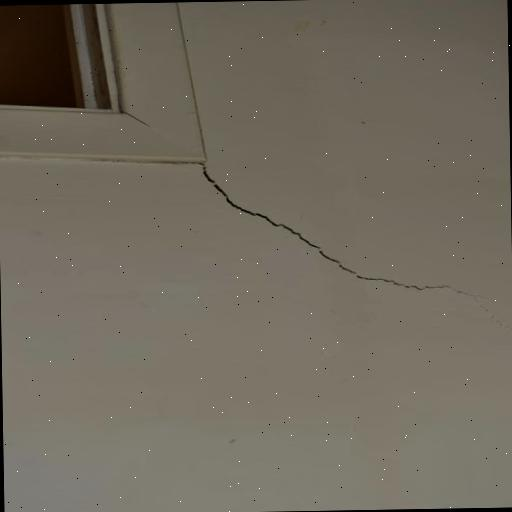spalling: (196, 164, 488, 301)
